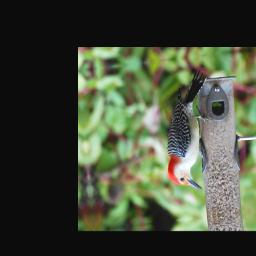Woodpecker: (157, 67, 220, 194)
